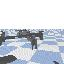drone: (0, 29, 44, 50)
